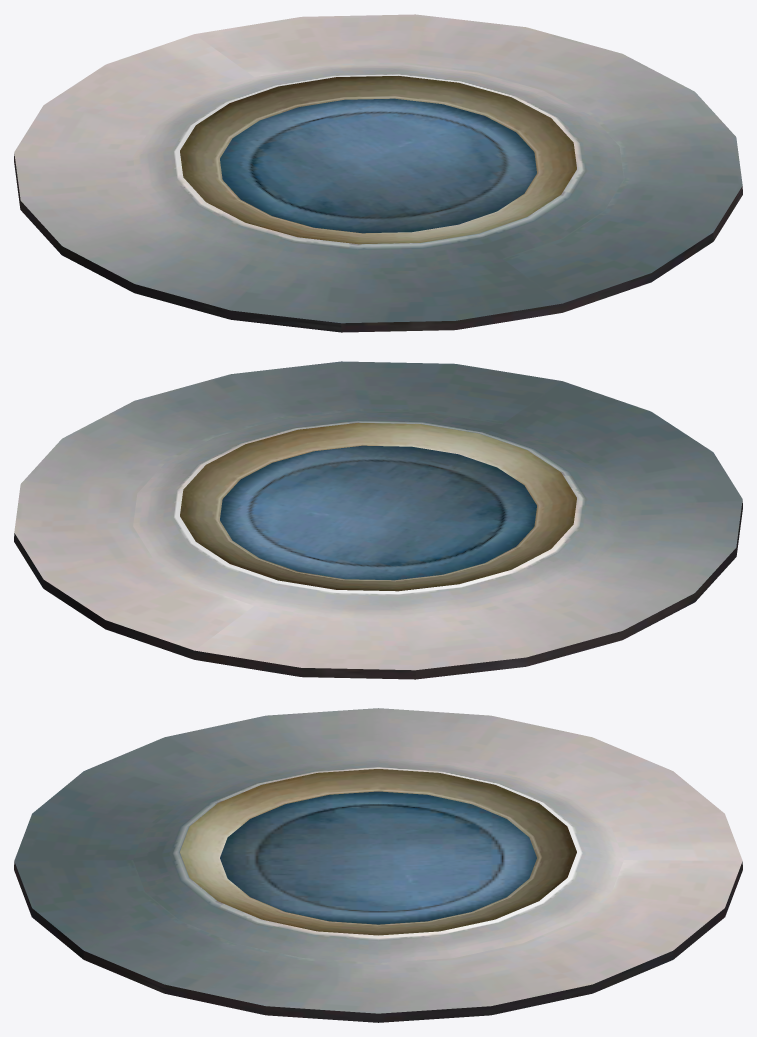
File: frn_jedi_light_table_s01_l0.fbx
The picture shows the model from 3 angles, top to bottom: view 1: azimuth 30°, elevation 25°; view 2: azimuth 150°, elevation 25°; view 3: azimuth 270°, elevation 25°; orthographic projection.
Parts seen in each view (by area): view 1: mesh_node; view 2: mesh_node; view 3: mesh_node.
Boxes of the visible parts, x1,y1,x2,y2 form: mesh_node: (14, 14, 742, 332); mesh_node: (14, 361, 742, 679); mesh_node: (14, 708, 742, 1022).
Size of the model in its own units: 4.81 by 0.7851 by 4.84.
